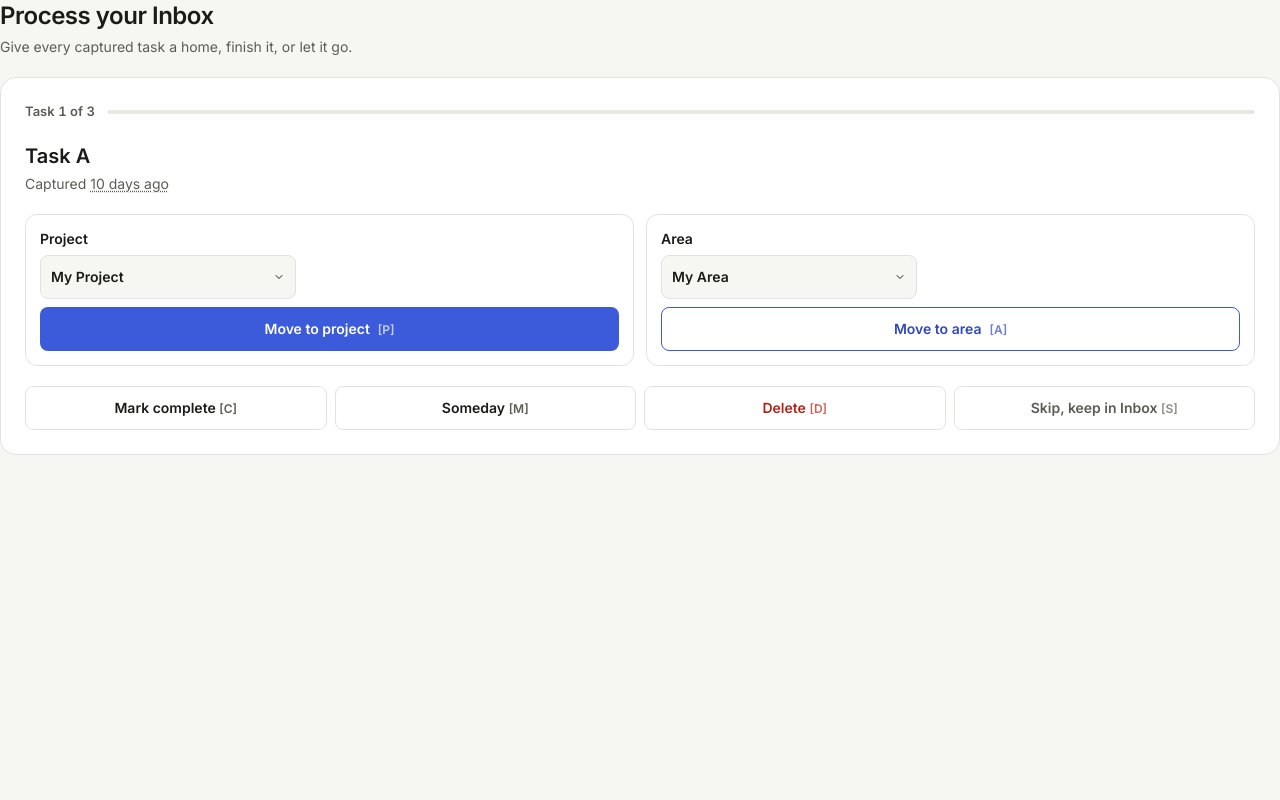
Test: InboxStep — Skip bug fix (single source of truth) › Skip → D dialog mentions Task B (the displayed task)
Click the button "Skip, keep in Inbox [S]": (1104, 408) [954, 386, 1255, 430]
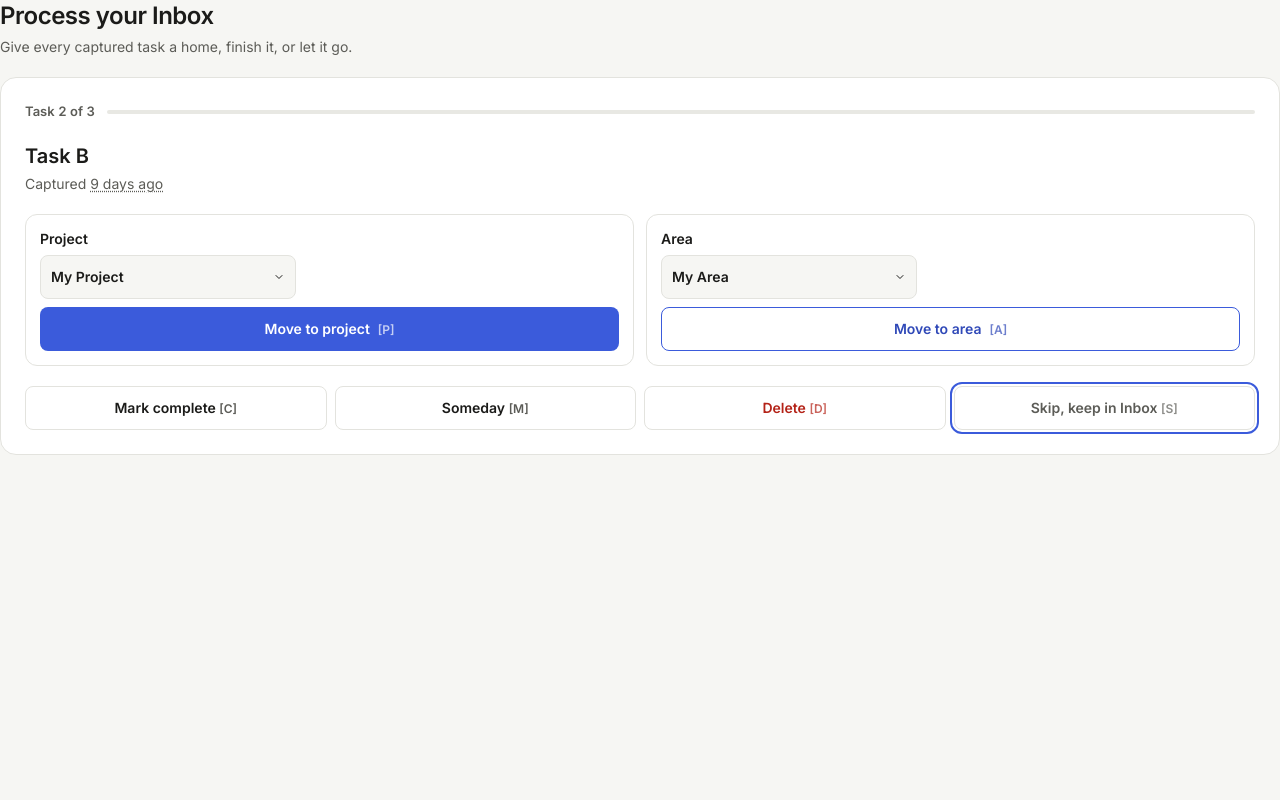
expect the heading "Task B" is shown: met, box [25, 144, 89, 168]
Click the button "Delete [D]": (795, 408) [644, 386, 946, 430]
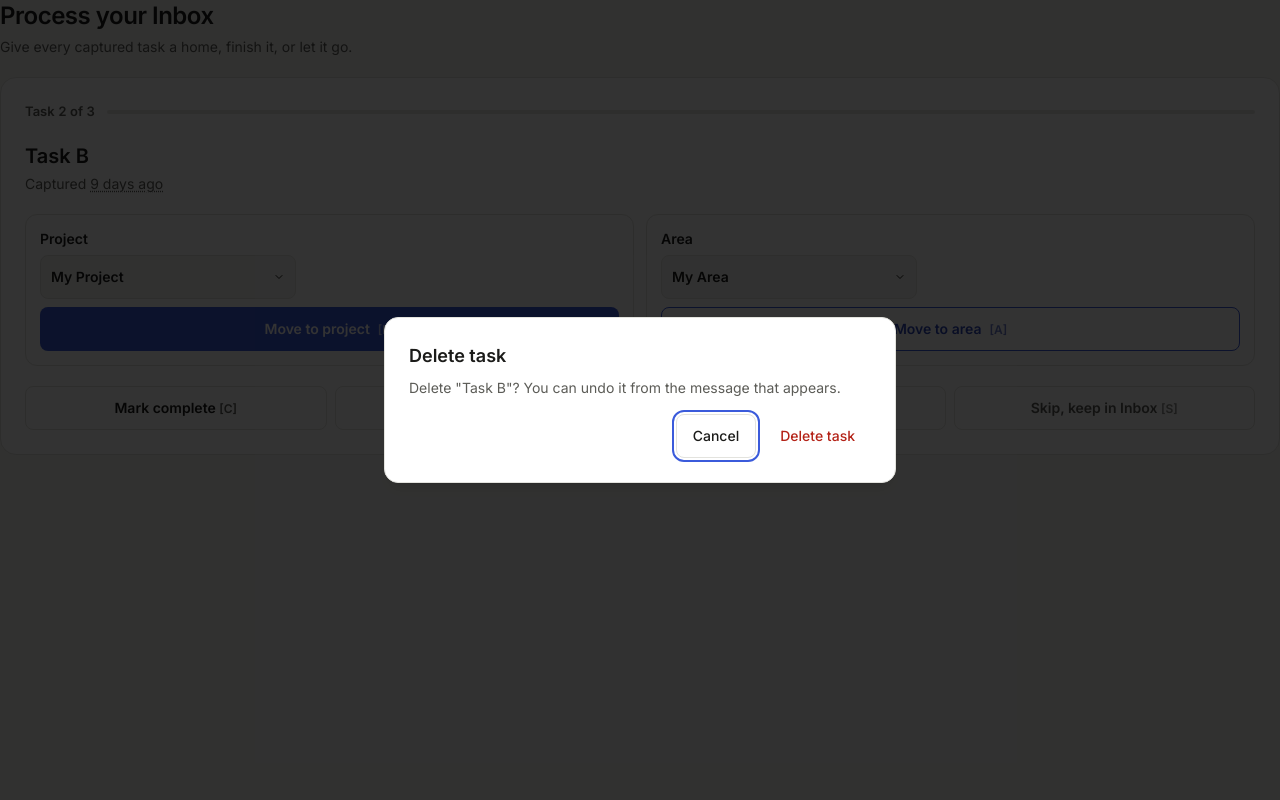
expect the dialog does not show "Task A": met
expect the dialog is shown: met, box [384, 317, 896, 483]
expect the dialog shows "Task B": met, box [409, 379, 841, 396]
